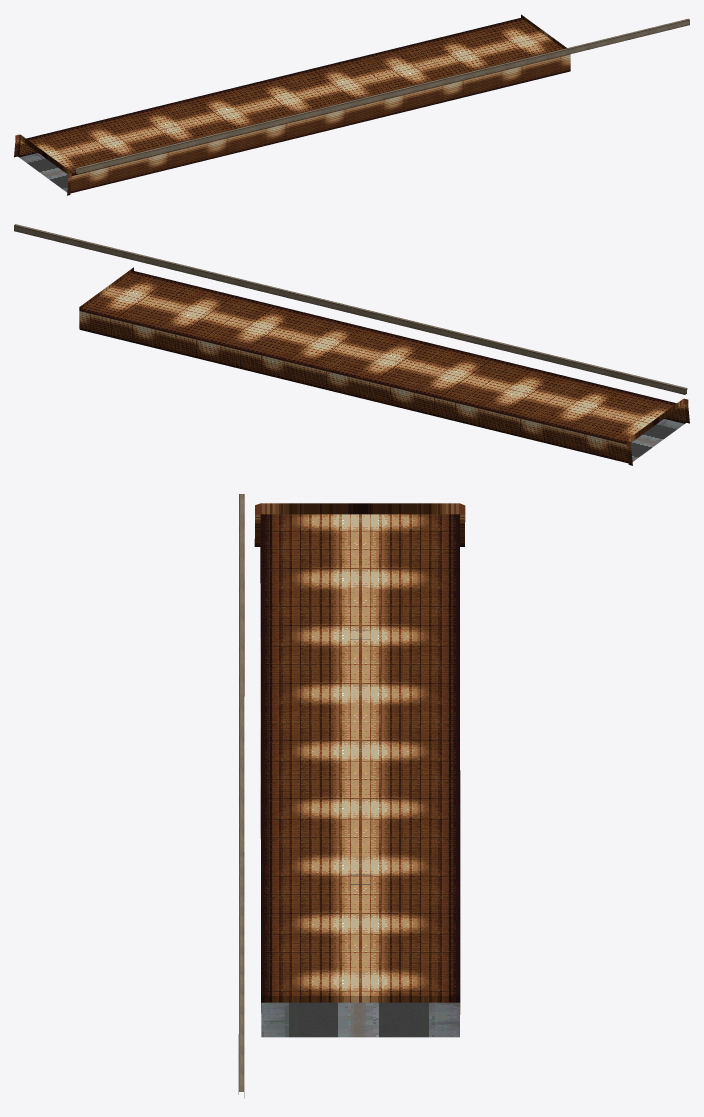
Rendered from lodtun2_las01.obj.
The picture shows the model from 3 angles, top to bottom: view 1: azimuth 30°, elevation 25°; view 2: azimuth 150°, elevation 25°; view 3: azimuth 270°, elevation 25°; orthographic projection. The views are drawn at different scales.
Parts seen in each view (by area): view 1: LODtun2_LAS01; view 2: LODtun2_LAS01; view 3: LODtun2_LAS01.
Part boxes in pixels (left/top/right/bottom): LODtun2_LAS01: left=14, top=14, right=689, bottom=195; LODtun2_LAS01: left=14, top=224, right=689, bottom=465; LODtun2_LAS01: left=238, top=494, right=465, bottom=1098.
Size of the model in its own units: 218 by 10.17 by 34.56.
5 materials, 5 textured.
